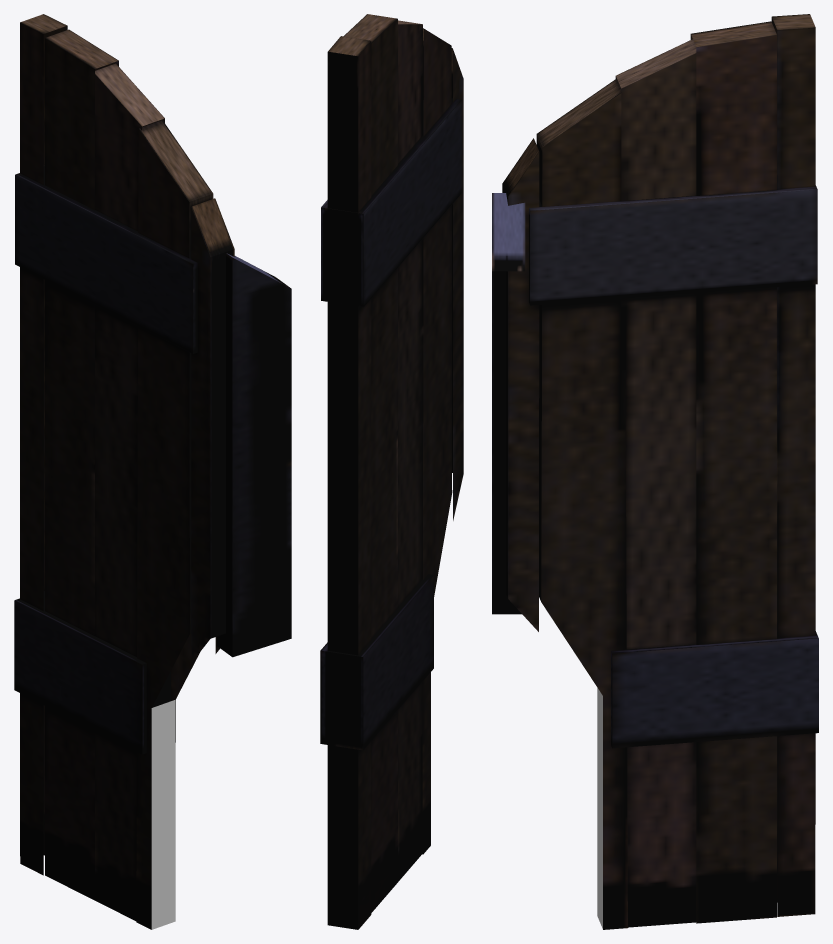
The model's file is DoorSide1F8.obj.
3 renders of one model, left to right at view 1: azimuth 30°, elevation 25°; view 2: azimuth 150°, elevation 25°; view 3: azimuth 270°, elevation 25°, orthographic. The views are drawn at different scales.
Visible parts, largest first — view 1: object 2, DoorSide1F8_Cube.437; view 2: object 2; view 3: object 2, DoorSide1F8_Cube.437.
Part boxes in pixels (x1,y1,x2,y2): object 2: (14, 14, 291, 929); DoorSide1F8_Cube.437: (151, 699, 175, 929); object 2: (320, 14, 463, 929); object 2: (492, 14, 818, 929); DoorSide1F8_Cube.437: (597, 688, 602, 928).
Size of the model in its own units: 42 by 268 by 89.37.
